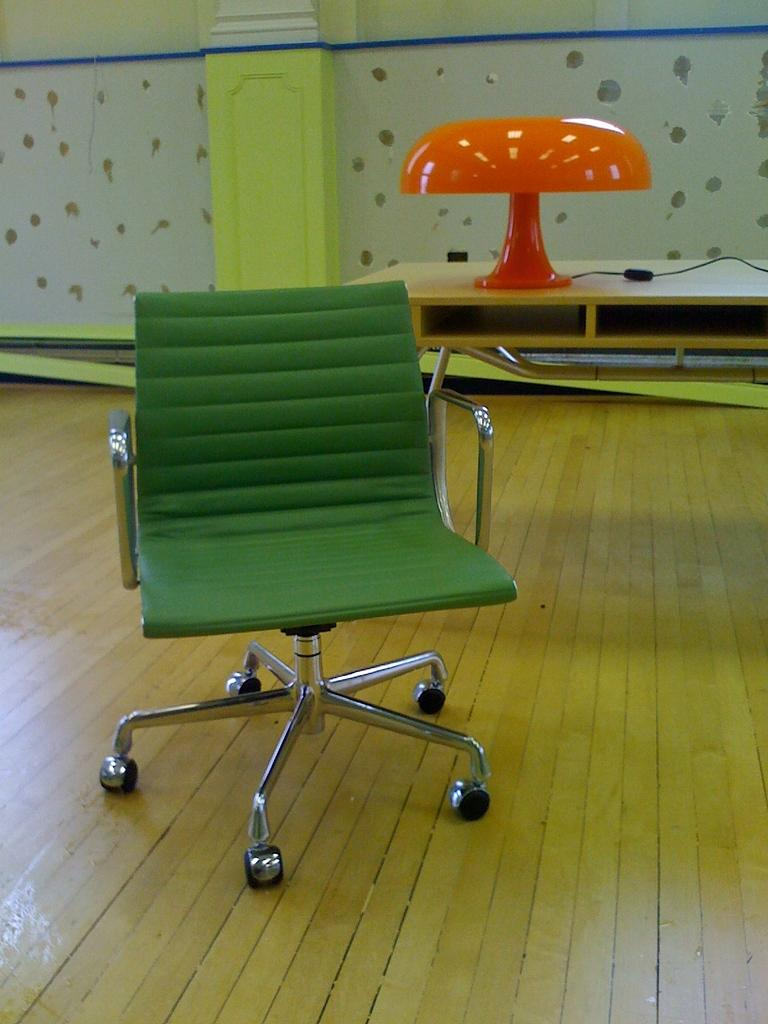Chair: (88, 248, 533, 887)
